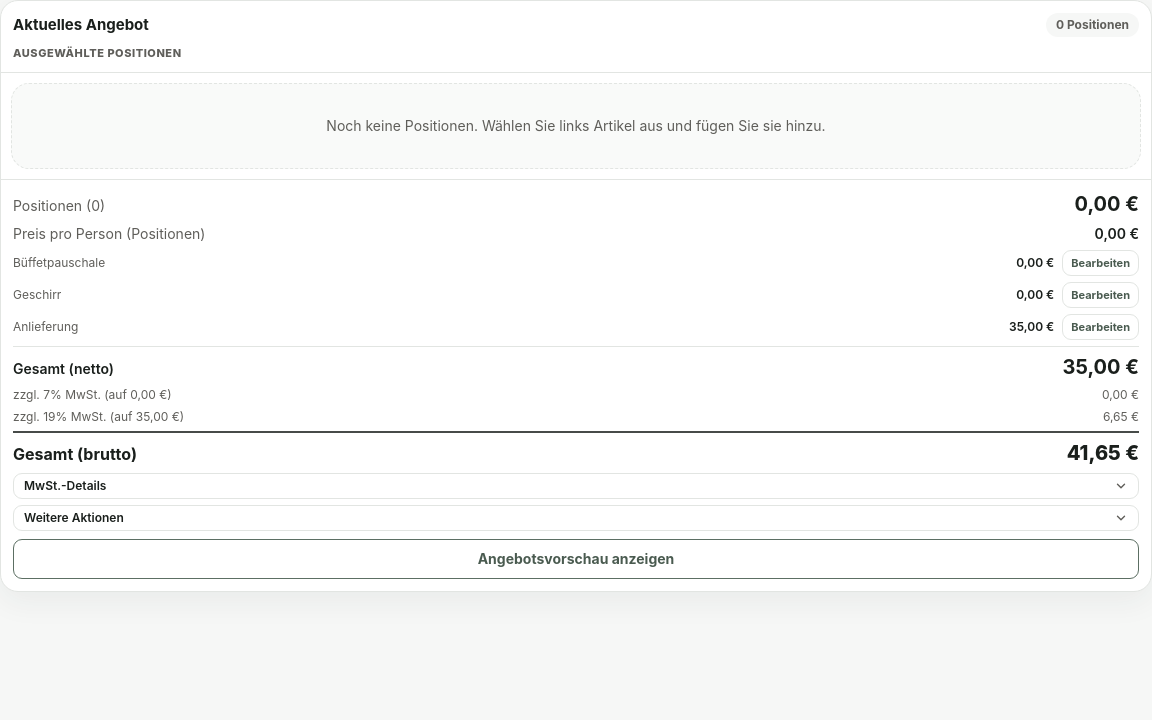
OfferSummary — primary action visibility › opens the Angebotsvorschau modal from its secondary button
Click the button "Angebotsvorschau anzeigen". click: [576, 558]
box: [13,538,1139,578]
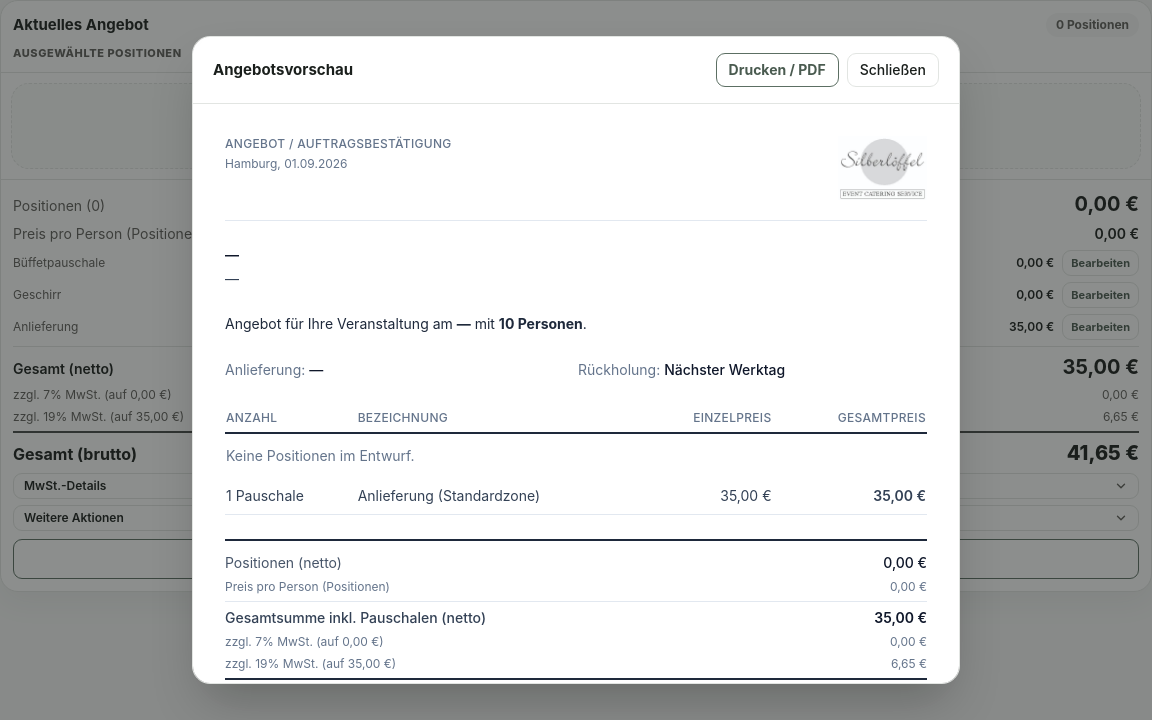
Result: the dialog "Angebotsvorschau" is shown
